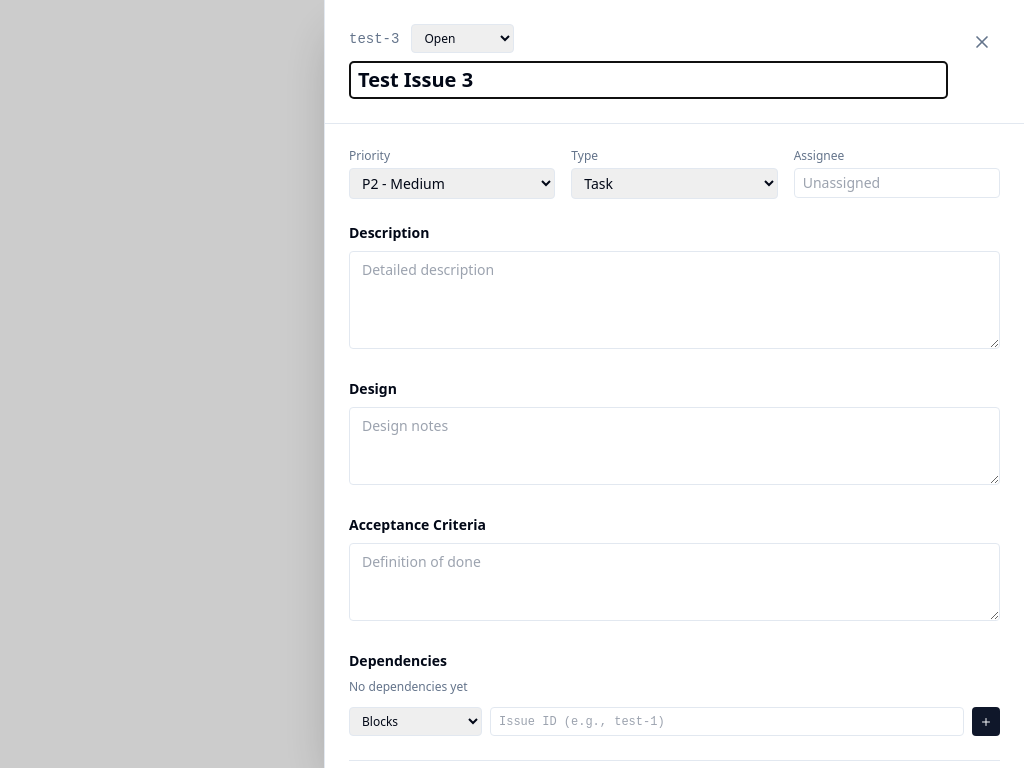
Scenario: IssueSidePanel - Dependency Management › should show error when adding non-existent issue
Note: Try to add a non-existent issue
In the field with placeholder "Issue ID (e.g., test-1)": {"x": 727, "y": 722} x1=490 y1=707 x2=964 y2=736, type "non-existent"
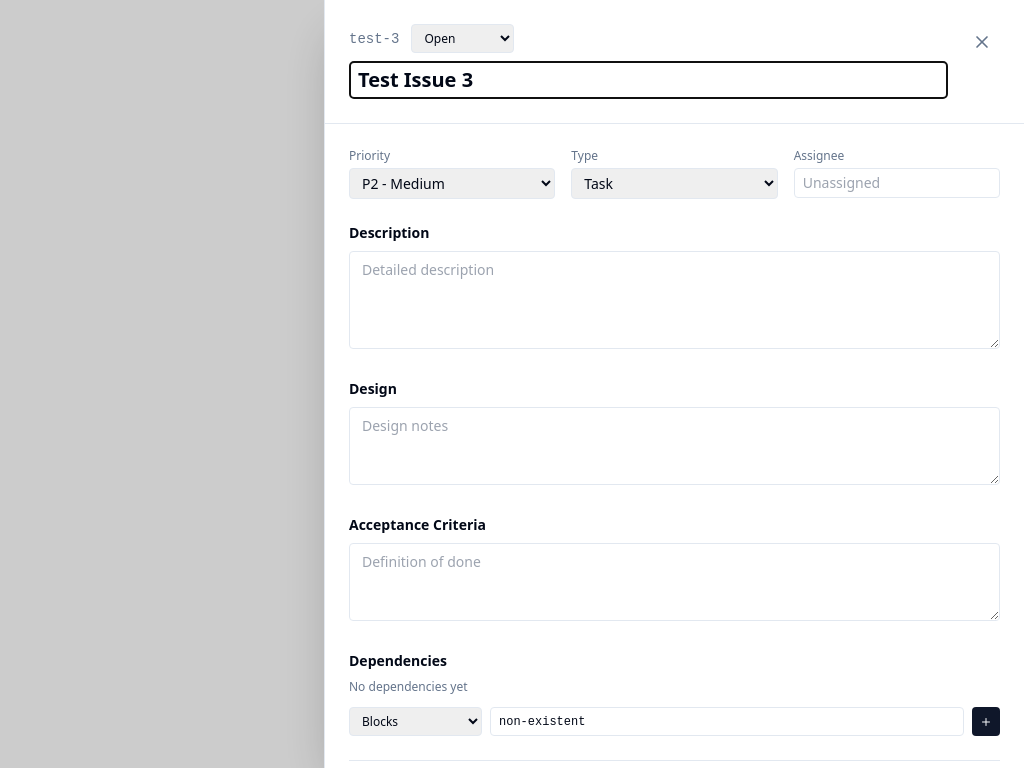
Click the button titled "Add dependency": {"x": 986, "y": 722} x1=972 y1=707 x2=1000 y2=736
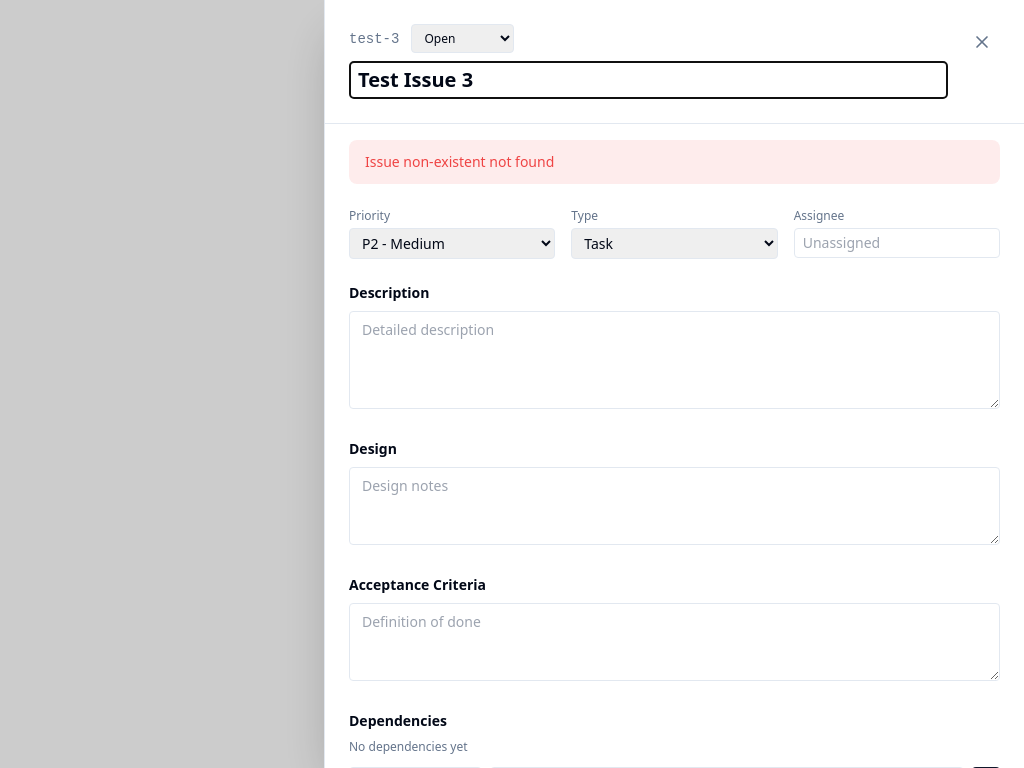
Expected: the text "Issue non-existent not found" is shown, x1=349 y1=140 x2=1000 y2=184
